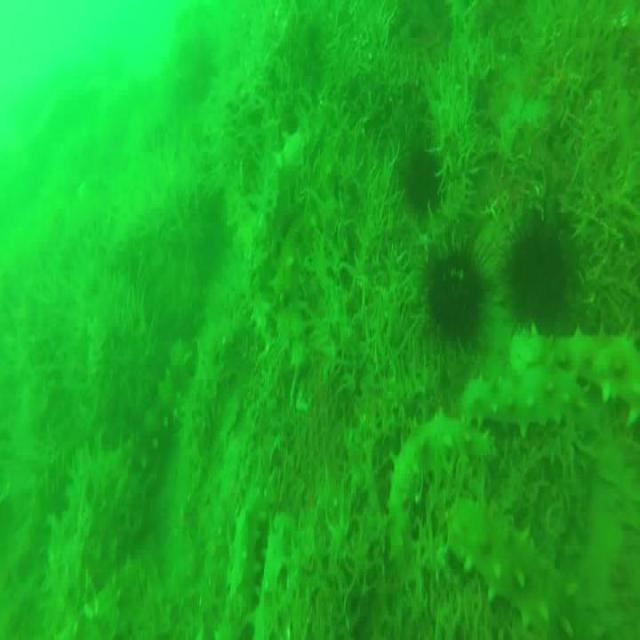echinus: (502, 212, 572, 327), (427, 230, 482, 358), (404, 144, 438, 213)
holothurian: (447, 496, 581, 640), (369, 412, 497, 548), (510, 329, 640, 430), (449, 375, 601, 428), (256, 124, 299, 296), (67, 561, 142, 640), (231, 486, 266, 640), (255, 513, 293, 640)
